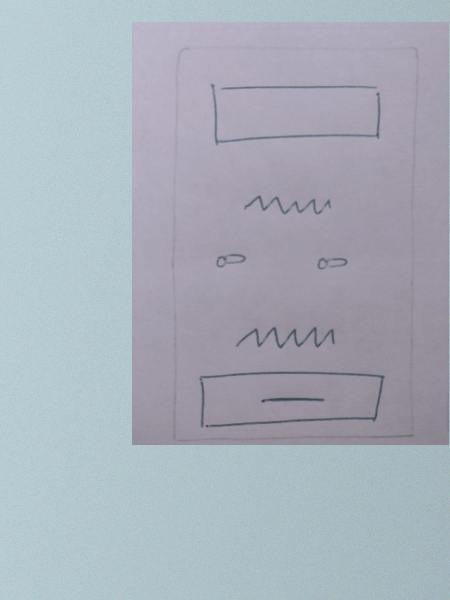button: (190, 368, 392, 429)
switch: (205, 244, 257, 276), (308, 247, 365, 276)
text: (224, 318, 348, 352), (234, 187, 340, 219)
text_input: (202, 76, 398, 150)
